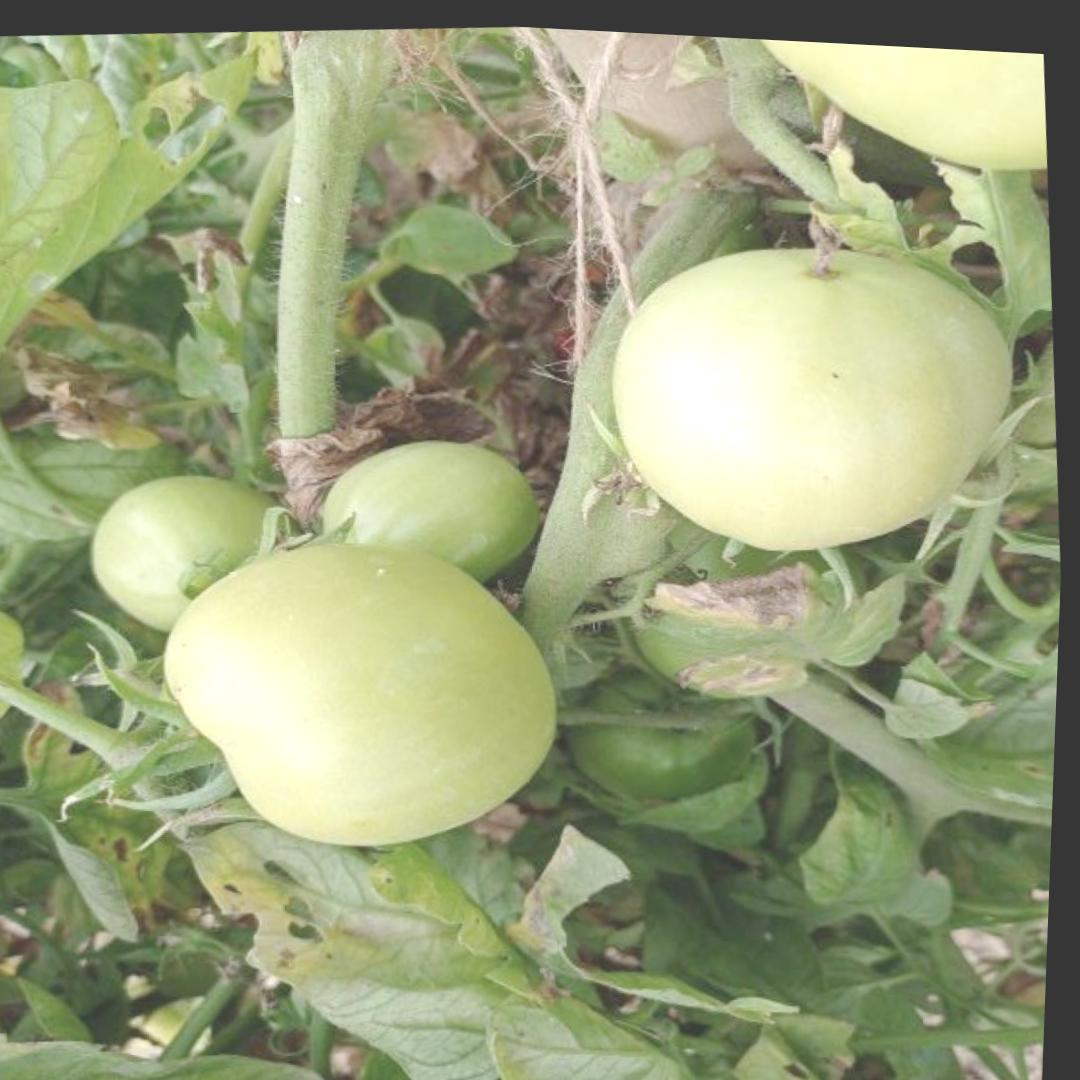mentah: (595, 223, 1025, 578), (149, 516, 571, 869), (80, 461, 325, 645), (311, 424, 543, 603)
